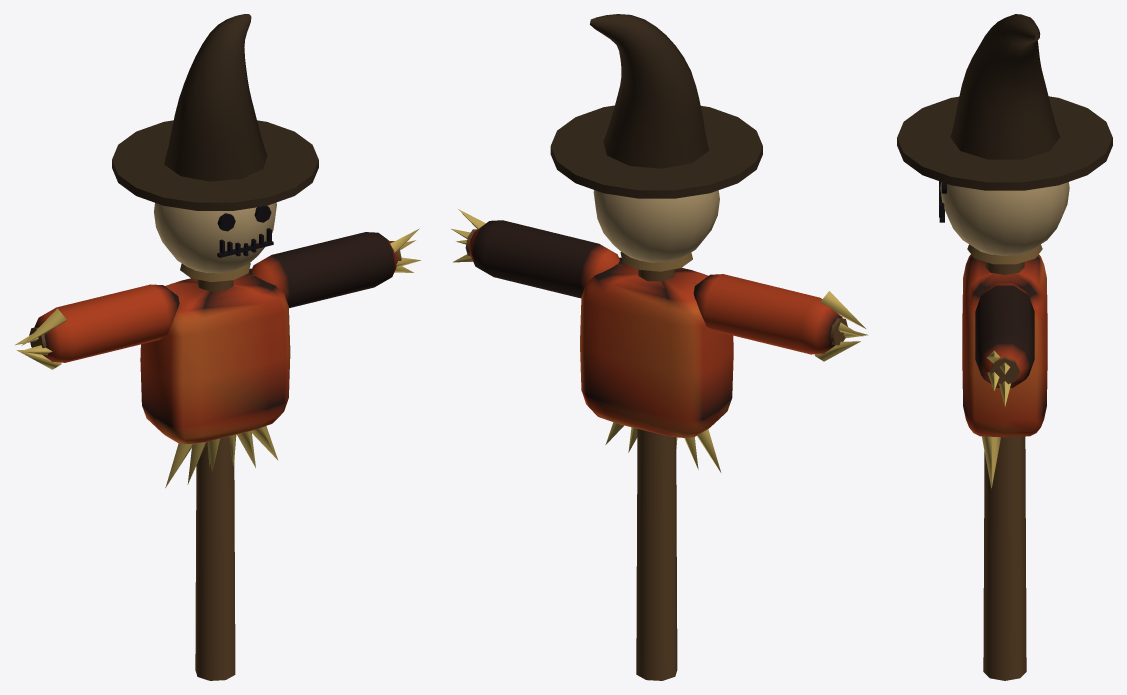
The model's file is be58166d-296f-430d-b8cd-0bd75f49bbde.glb.
The picture shows the model from 3 angles, left to right: view 1: azimuth 30°, elevation 25°; view 2: azimuth 150°, elevation 25°; view 3: azimuth 270°, elevation 25°; orthographic projection. The views are drawn at different scales.
Parts seen in each view (by area): view 1: Scarecrow; view 2: Scarecrow; view 3: Scarecrow.
Boxes of the visible parts, bbox=[...] form: Scarecrow: bbox=[14, 14, 420, 680]; Scarecrow: bbox=[451, 14, 868, 680]; Scarecrow: bbox=[897, 14, 1112, 680].
Size of the model in its own units: 1.8 by 2.73 by 0.8.
